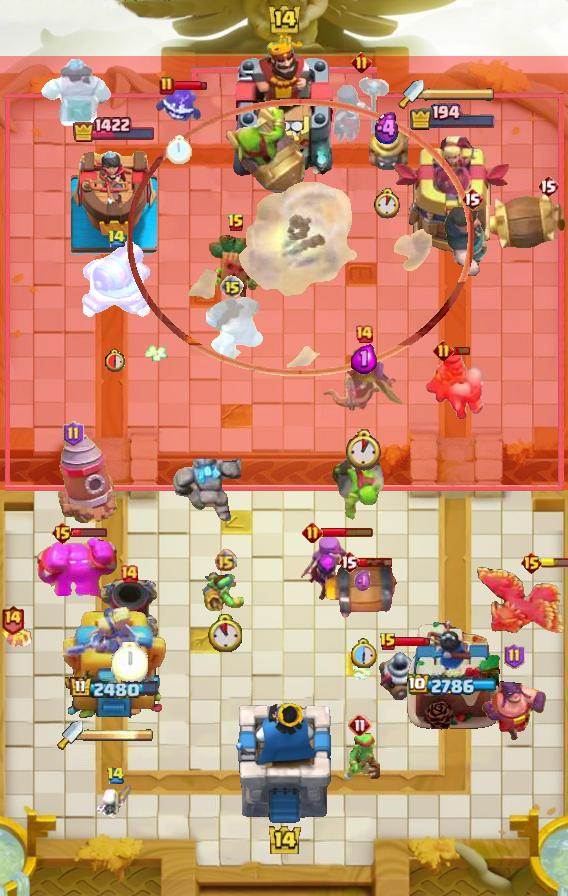bar: (391, 132, 515, 256), (60, 607, 168, 731)
bar-level: (329, 452, 387, 524)
barbarian-hut: (321, 345, 407, 423)
clone: (34, 537, 120, 623)
electro-spirit: (373, 112, 404, 144), (351, 344, 377, 374), (354, 569, 374, 593)
elite-barbarian: (425, 347, 485, 421)
elixir: (344, 429, 384, 471), (111, 642, 148, 684), (208, 614, 242, 652), (374, 189, 403, 220), (349, 639, 377, 670), (164, 135, 191, 166), (105, 348, 127, 372)
emote: (321, 526, 375, 538), (72, 526, 109, 538), (172, 80, 208, 92), (395, 636, 431, 648), (359, 556, 394, 567), (540, 558, 568, 568), (451, 344, 471, 356)
giant-snowball: (201, 570, 249, 612), (340, 732, 380, 782)
goblin-barrel: (207, 234, 265, 298)
goblin-drill: (376, 646, 422, 700), (364, 125, 410, 171)
heal-spirit: (95, 782, 136, 826), (0, 617, 32, 649)
king-tower: (228, 35, 340, 181), (235, 703, 333, 826)
king-tower-bar: (424, 87, 496, 101), (83, 728, 153, 742)
magic-archer: (58, 430, 118, 524)
monk: (481, 665, 547, 743)
mother-witch: (474, 565, 568, 639)
musketeer: (97, 577, 161, 643)
queen-tower: (404, 617, 502, 731), (71, 144, 157, 255)
rage: (38, 58, 114, 126), (199, 296, 265, 366)
rascal-boy: (331, 74, 391, 148)
rascal-girl: (298, 534, 350, 604)
royal-ghost: (127, 99, 473, 377)
royal-hog: (441, 203, 503, 277)
royal-recruit: (78, 241, 154, 325)
selected: (409, 103, 497, 131), (71, 116, 156, 143), (68, 675, 159, 700), (409, 674, 500, 698)
spear-goblin: (155, 83, 201, 127)
text: (0, 604, 24, 635), (220, 275, 244, 299), (348, 713, 372, 737), (51, 521, 74, 545), (214, 548, 237, 572), (521, 551, 544, 575), (64, 421, 85, 447), (504, 643, 525, 669), (537, 174, 559, 198), (461, 187, 483, 211), (338, 550, 360, 574), (351, 51, 373, 72), (433, 339, 454, 361), (302, 521, 323, 543), (354, 324, 374, 344), (119, 564, 139, 584), (106, 766, 125, 785), (227, 213, 245, 233), (379, 632, 397, 652), (106, 229, 125, 247), (159, 76, 175, 96)
the-log: (484, 189, 568, 251), (323, 560, 403, 620)
valkyrie-evolution: (169, 457, 241, 527)
x-bow: (226, 103, 306, 197)
